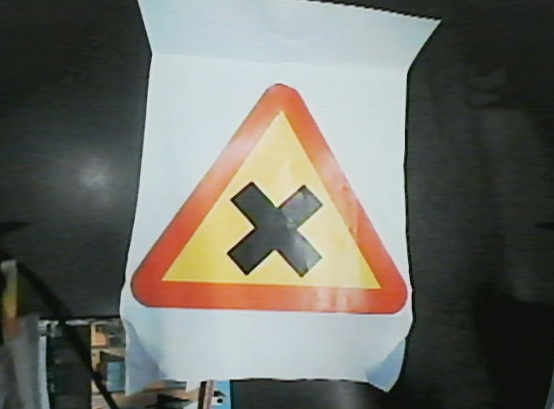junction: (115, 73, 416, 321)
